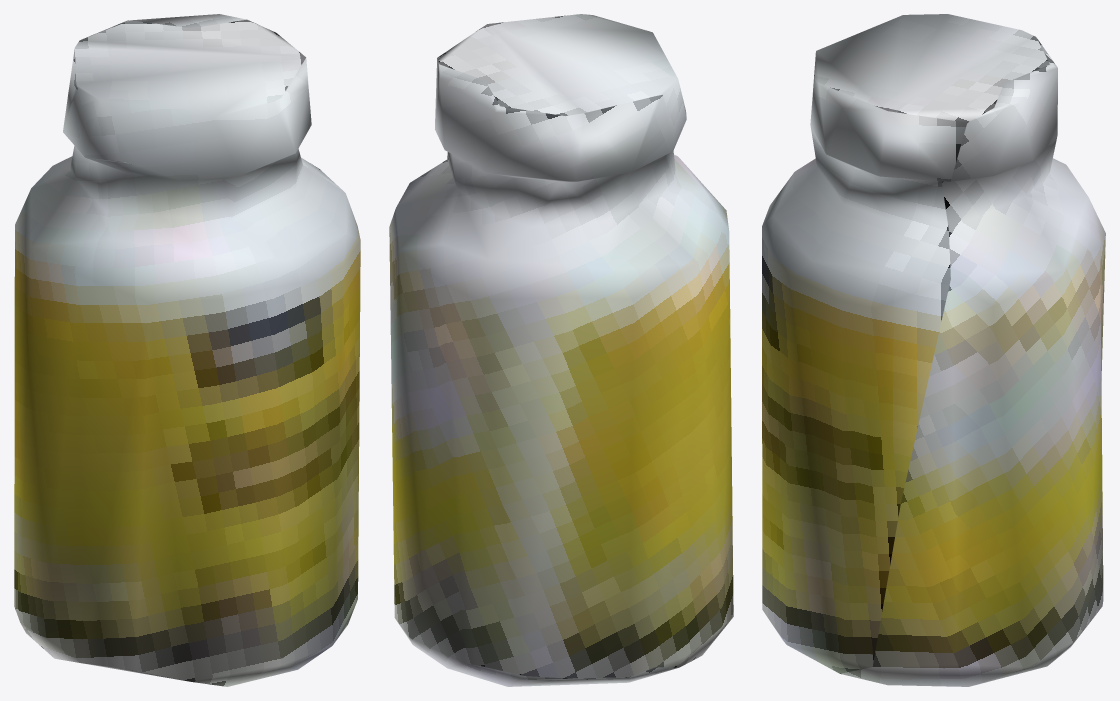
File: Jarrow_Glucosamine_Chondroitin_Combination_120_Caps-low.glb
The picture shows the model from 3 angles, left to right: view 1: azimuth 30°, elevation 25°; view 2: azimuth 150°, elevation 25°; view 3: azimuth 270°, elevation 25°; orthographic projection.
Parts seen in each view (by area): view 1: Jarrow_Glucosamine_Chondroitin_Combination_120_Caps; view 2: Jarrow_Glucosamine_Chondroitin_Combination_120_Caps; view 3: Jarrow_Glucosamine_Chondroitin_Combination_120_Caps.
Boxes of the visible parts, left/top/right/bottom form: Jarrow_Glucosamine_Chondroitin_Combination_120_Caps: left=14, top=14, right=360, bottom=686; Jarrow_Glucosamine_Chondroitin_Combination_120_Caps: left=389, top=14, right=733, bottom=686; Jarrow_Glucosamine_Chondroitin_Combination_120_Caps: left=762, top=14, right=1105, bottom=686.
Size of the model in its own units: 0.064 by 0.1162 by 0.0639.
Materials: 1 (1 with a texture image).
